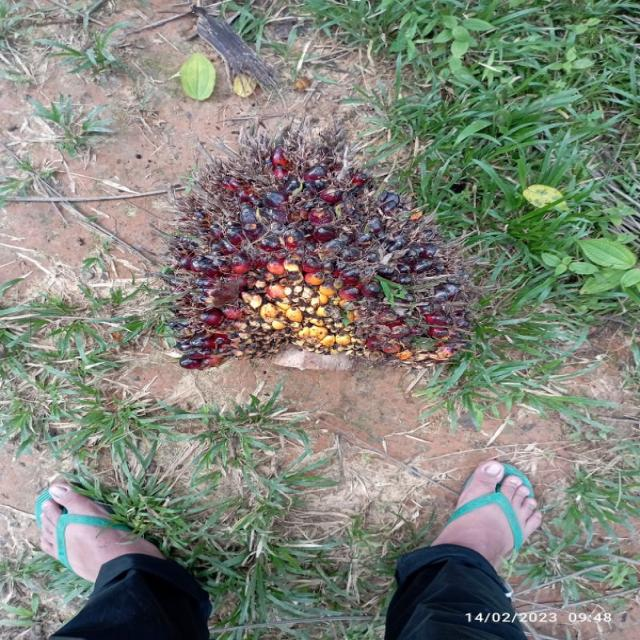fraksi 1: (151, 127, 471, 374)
